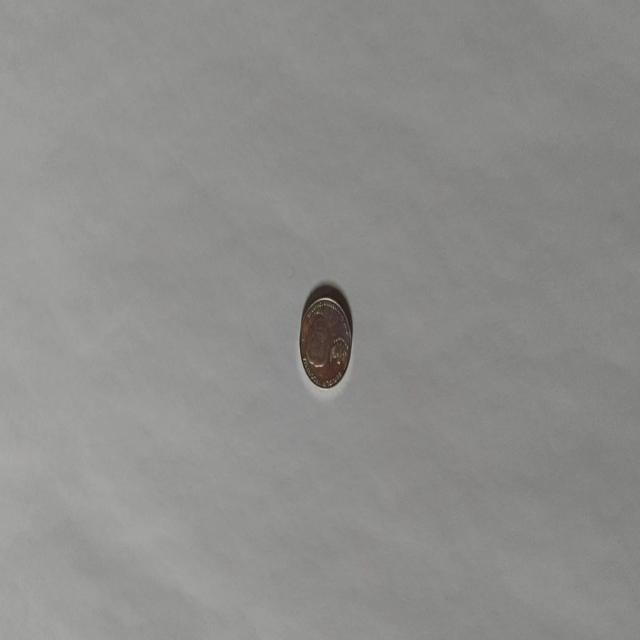seratus rupiah: (298, 294, 352, 390)
